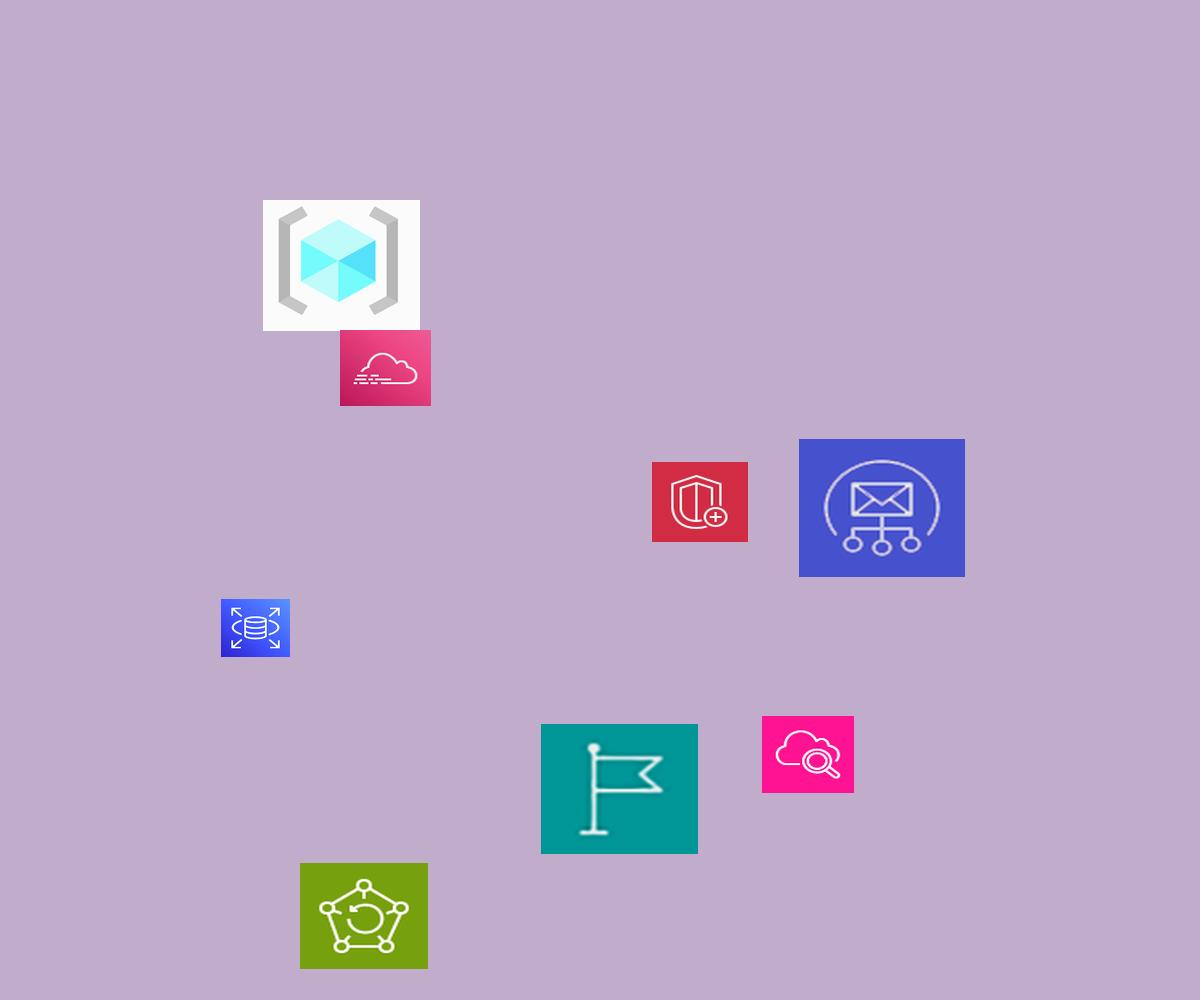AWS-Backup: (300, 863, 428, 969)
AWS-CloudTrail: (340, 330, 431, 406)
AWS-CloudWatch: (762, 716, 854, 793)
AWS-RDS: (221, 599, 290, 657)
AWS-Region: (541, 724, 698, 854)
AWS-Shield: (652, 462, 748, 542)
AWS-Simple-Email-Service: (799, 439, 965, 577)
Azure_resource_group: (263, 200, 420, 331)
